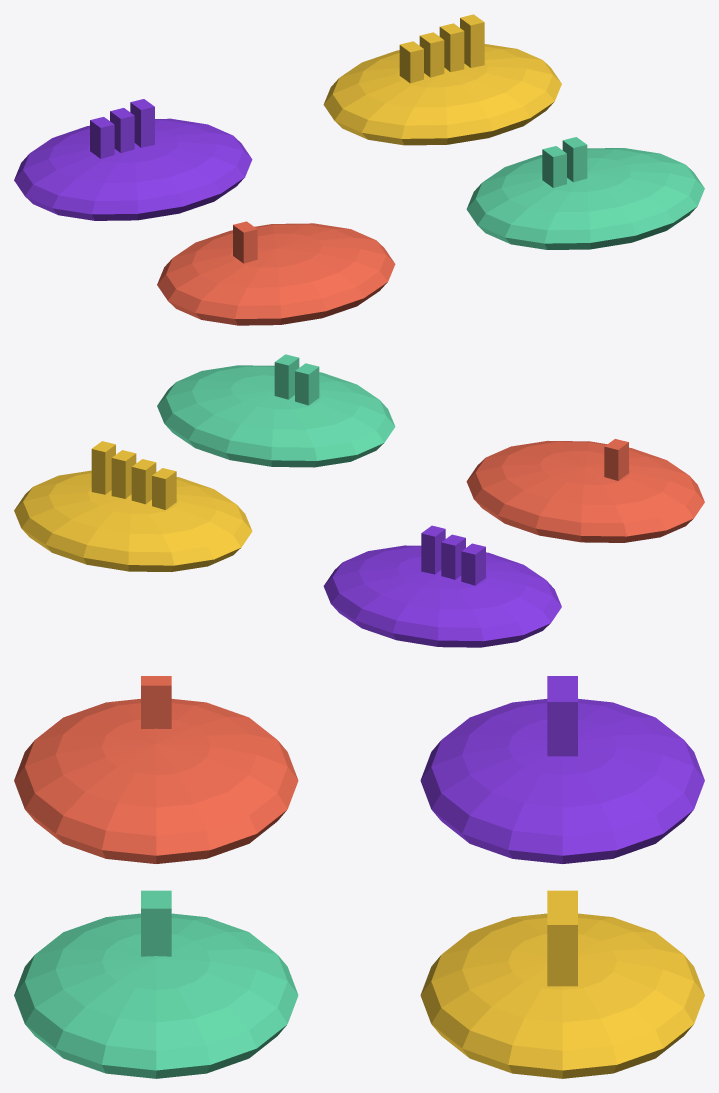
File: world_overview.meshopt.glb
3 views of the same model, one above another, from view 1: azimuth 30°, elevation 25°; view 2: azimuth 150°, elevation 25°; view 3: azimuth 270°, elevation 25° (orthographic). The views are drawn at different scales.
Visible parts, largest first — view 1: GY_overview_island0_LOD0, GY_overview_island1_LOD0, GY_overview_island2_LOD0, GY_overview_island3_LOD0, GY_overview_landmark3_3_LOD0, GY_overview_landmark3_2_LOD0, GY_overview_landmark2_2_LOD0, GY_overview_landmark1_0_LOD0, GY_overview_landmark0_0_LOD0, GY_overview_landmark2_0_LOD0, GY_overview_landmark3_0_LOD0, GY_overview_landmark1_1_LOD0 (+2 smaller); view 2: GY_overview_island0_LOD0, GY_overview_island1_LOD0, GY_overview_island2_LOD0, GY_overview_island3_LOD0, GY_overview_landmark3_3_LOD0, GY_overview_landmark3_2_LOD0, GY_overview_landmark2_2_LOD0, GY_overview_landmark1_0_LOD0, GY_overview_landmark2_0_LOD0, GY_overview_landmark0_0_LOD0, GY_overview_landmark3_0_LOD0, GY_overview_landmark1_1_LOD0 (+2 smaller); view 3: GY_overview_island0_LOD0, GY_overview_island1_LOD0, GY_overview_island2_LOD0, GY_overview_island3_LOD0, GY_overview_landmark3_3_LOD0, GY_overview_landmark2_2_LOD0, GY_overview_landmark1_1_LOD0, GY_overview_landmark0_0_LOD0.
Part boxes in pixels (x1=…): GY_overview_island0_LOD0: x1=157, y1=223, x2=395, y2=325; GY_overview_island1_LOD0: x1=466, y1=148, x2=704, y2=249; GY_overview_island2_LOD0: x1=14, y1=118, x2=252, y2=220; GY_overview_island3_LOD0: x1=323, y1=44, x2=561, y2=145; GY_overview_landmark3_3_LOD0: x1=460, y1=14, x2=484, y2=67; GY_overview_landmark3_2_LOD0: x1=439, y1=23, x2=464, y2=72; GY_overview_landmark2_2_LOD0: x1=130, y1=99, x2=154, y2=147; GY_overview_landmark1_0_LOD0: x1=542, y1=146, x2=566, y2=187; GY_overview_landmark0_0_LOD0: x1=233, y1=221, x2=257, y2=263; GY_overview_landmark2_0_LOD0: x1=90, y1=117, x2=114, y2=158; GY_overview_landmark3_0_LOD0: x1=399, y1=41, x2=423, y2=83; GY_overview_landmark1_1_LOD0: x1=562, y1=137, x2=587, y2=182; GY_overview_island0_LOD0: x1=466, y1=440, x2=704, y2=542; GY_overview_island1_LOD0: x1=157, y1=365, x2=395, y2=467; GY_overview_island2_LOD0: x1=323, y1=545, x2=561, y2=647; GY_overview_island3_LOD0: x1=14, y1=470, x2=252, y2=571; GY_overview_landmark3_3_LOD0: x1=91, y1=441, x2=115, y2=494; GY_overview_landmark3_2_LOD0: x1=111, y1=450, x2=136, y2=498; GY_overview_landmark2_2_LOD0: x1=421, y1=525, x2=445, y2=574; GY_overview_landmark1_0_LOD0: x1=295, y1=363, x2=319, y2=405; GY_overview_landmark2_0_LOD0: x1=461, y1=543, x2=485, y2=585; GY_overview_landmark0_0_LOD0: x1=604, y1=439, x2=628, y2=480; GY_overview_landmark3_0_LOD0: x1=152, y1=468, x2=176, y2=509; GY_overview_landmark1_1_LOD0: x1=274, y1=354, x2=299, y2=399; GY_overview_island0_LOD0: x1=14, y1=698, x2=298, y2=863; GY_overview_island1_LOD0: x1=14, y1=913, x2=298, y2=1078; GY_overview_island2_LOD0: x1=420, y1=698, x2=704, y2=863; GY_overview_island3_LOD0: x1=420, y1=913, x2=704, y2=1078; GY_overview_landmark3_3_LOD0: x1=547, y1=915, x2=577, y2=986; GY_overview_landmark2_2_LOD0: x1=547, y1=692, x2=577, y2=756; GY_overview_landmark1_1_LOD0: x1=141, y1=899, x2=171, y2=956; GY_overview_landmark0_0_LOD0: x1=141, y1=676, x2=171, y2=728.
Bounding box in the file's own units: 17 × 2.87 × 13.6.
